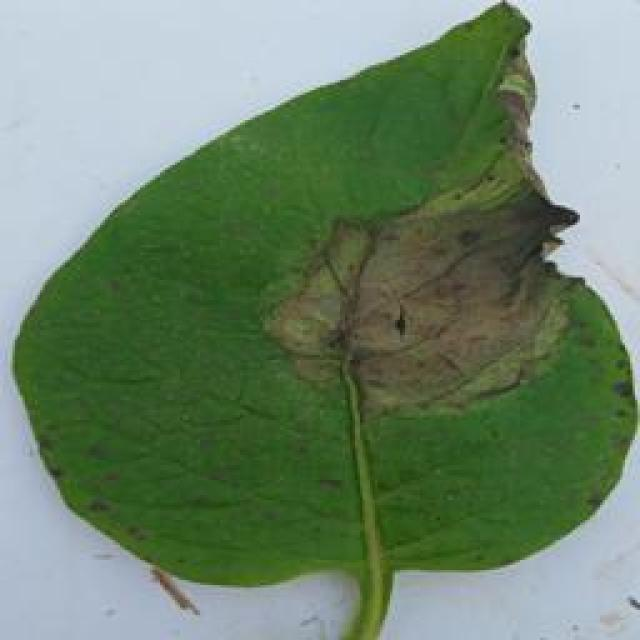Potato_Late_Blight: (14, 8, 622, 622)
